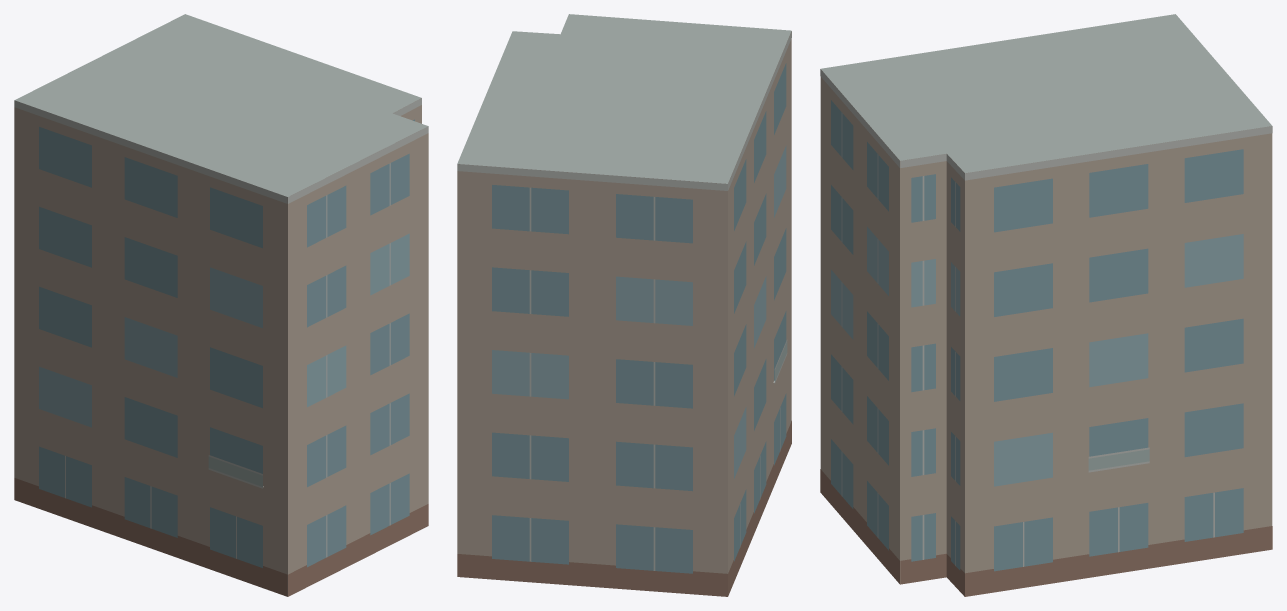
File: survey-upis-32527979.glb
3 renders of one model, left to right at view 1: azimuth 30°, elevation 25°; view 2: azimuth 150°, elevation 25°; view 3: azimuth 270°, elevation 25°, orthographic. The views are drawn at different scales.
Visible parts, largest first — view 1: survey-upis-32527979.tmp; view 2: survey-upis-32527979.tmp; view 3: survey-upis-32527979.tmp.
Part boxes in pixels (x1,y1,x2,y2): survey-upis-32527979.tmp: (14,14,428,596); survey-upis-32527979.tmp: (457,14,791,596); survey-upis-32527979.tmp: (820,14,1272,596).
Bounding box in the file's own units: 11.38 × 14.1 × 13.64.
